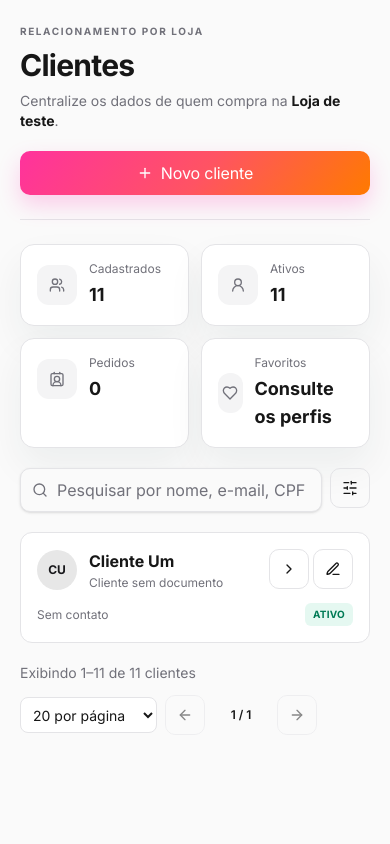
Test case: controles de lista em telas móveis › mantém a busca visível e abre os filtros adicionais de clientes pelo botão móvel
Click the button named "Exibir filtros": (350, 488) [330,468,370,508]
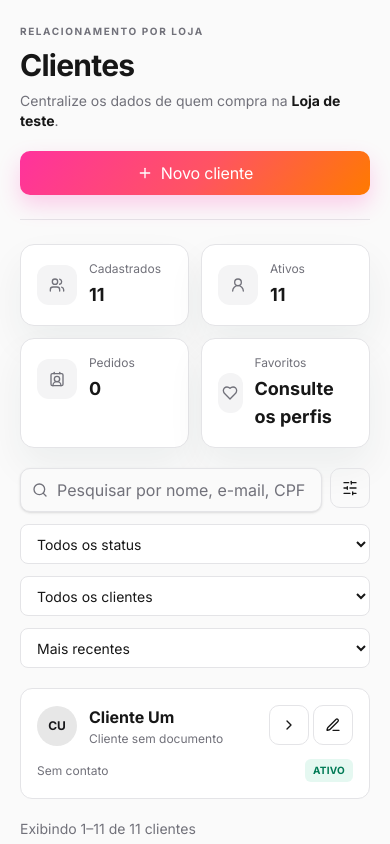
expect the dropdown named "Filtrar status" is shown: met, box [20,524,370,564]
